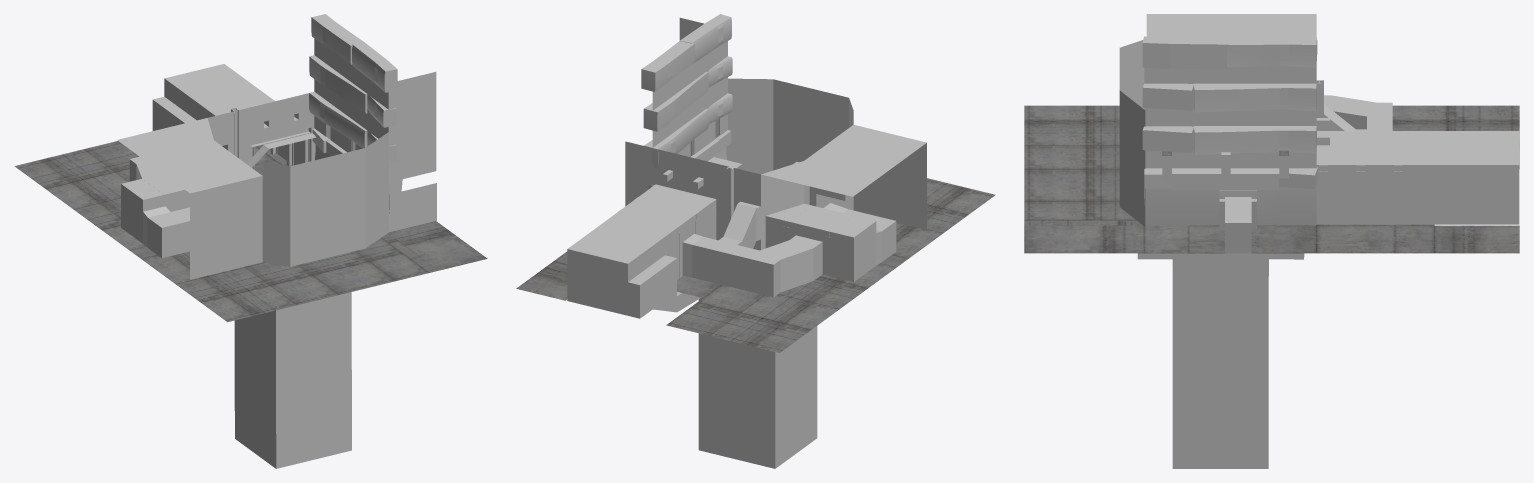
The model's file is SM_PuBeton_00.fbx.
The picture shows the model from 3 angles, left to right: view 1: azimuth 30°, elevation 25°; view 2: azimuth 150°, elevation 25°; view 3: azimuth 270°, elevation 25°; orthographic projection. The views are drawn at different scales.
Parts seen in each view (by area): view 1: SM_PuBeton_00; view 2: SM_PuBeton_00; view 3: SM_PuBeton_00.
Boxes of the visible parts, x1,y1,x2,y2 form: SM_PuBeton_00: (14, 14, 487, 468); SM_PuBeton_00: (516, 14, 995, 468); SM_PuBeton_00: (1024, 14, 1519, 468).
Bounding box in the file's own units: 3181 × 4434 × 4478.
